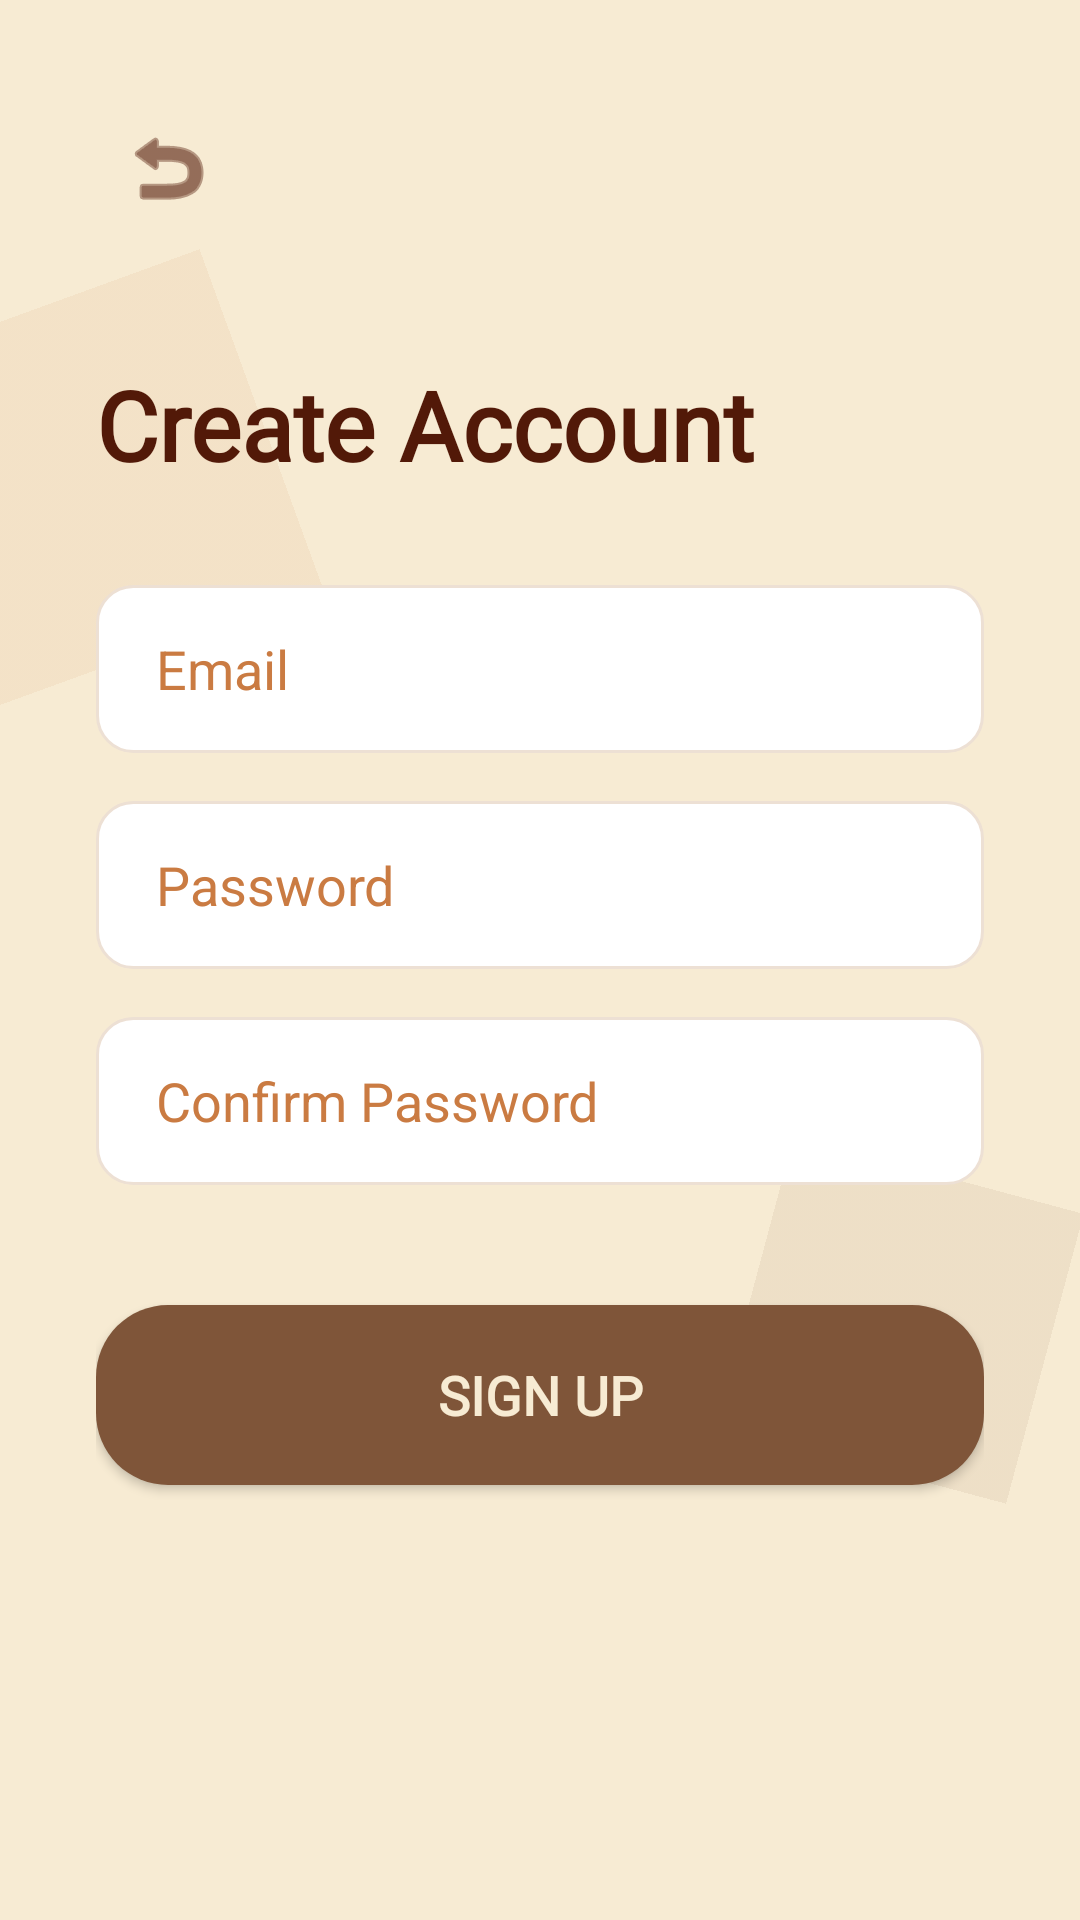

Point at icon controls on the screen. Image size 1080×1920, points as (x,y).
Back: (169,168)
